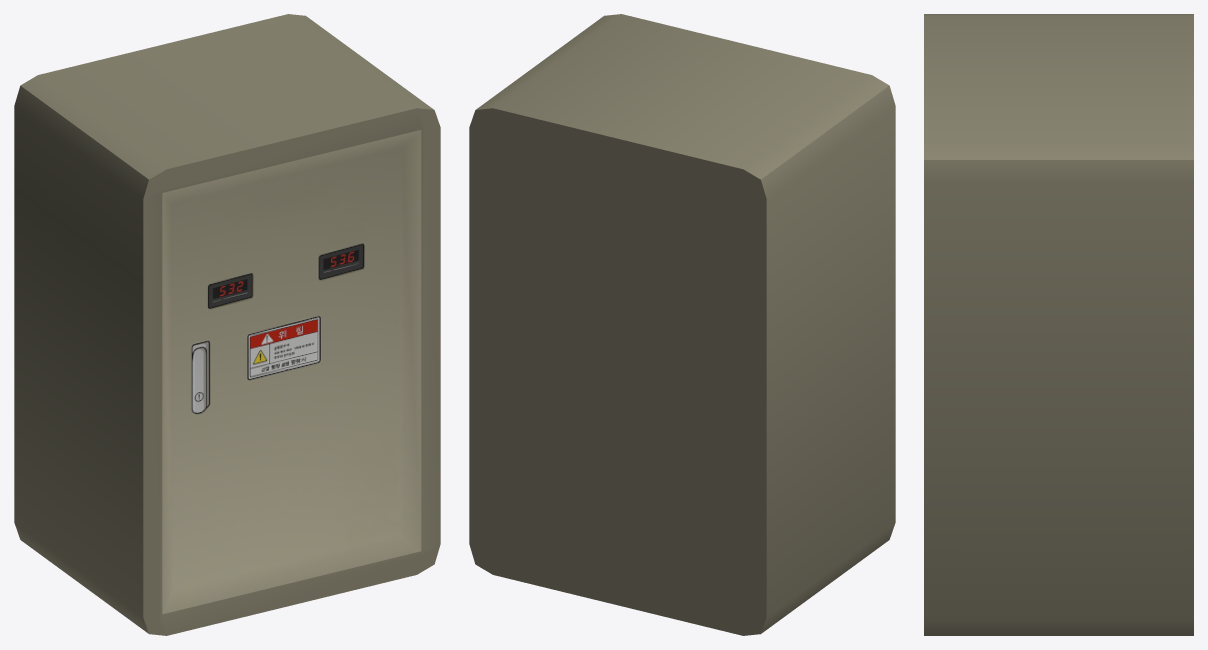
The picture shows the model from 3 angles, left to right: view 1: azimuth 30°, elevation 25°; view 2: azimuth 150°, elevation 25°; view 3: azimuth 270°, elevation 25°; orthographic projection. The views are drawn at different scales.
Visible parts, largest first — view 1: PLC본체(전원환경감시)029; view 2: PLC본체(전원환경감시)029; view 3: PLC본체(전원환경감시)029.
Boxes of the visible parts, box(x1,y1,x2,y2) form: PLC본체(전원환경감시)029: box(14, 14, 440, 635); PLC본체(전원환경감시)029: box(469, 14, 895, 635); PLC본체(전원환경감시)029: box(924, 14, 1193, 635).
Size of the model in its own units: 0.2 by 0.3 by 0.15.
2 materials, 1 textured.
